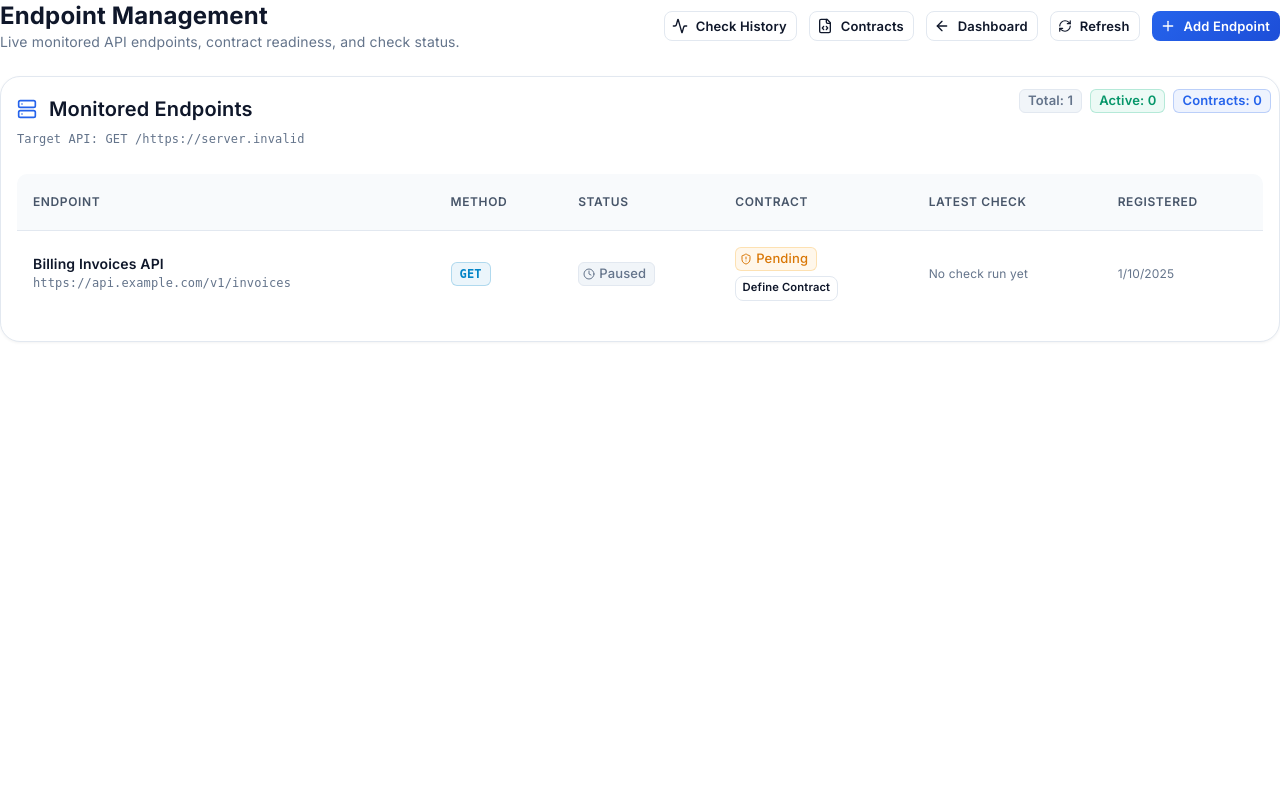
EndpointsPage › opens ManageContractDialog when Define Contract button on an endpoint row is clicked
Click the button with test id "define-contract-btn-ep-002": click(786, 288) [735,276,838,300]
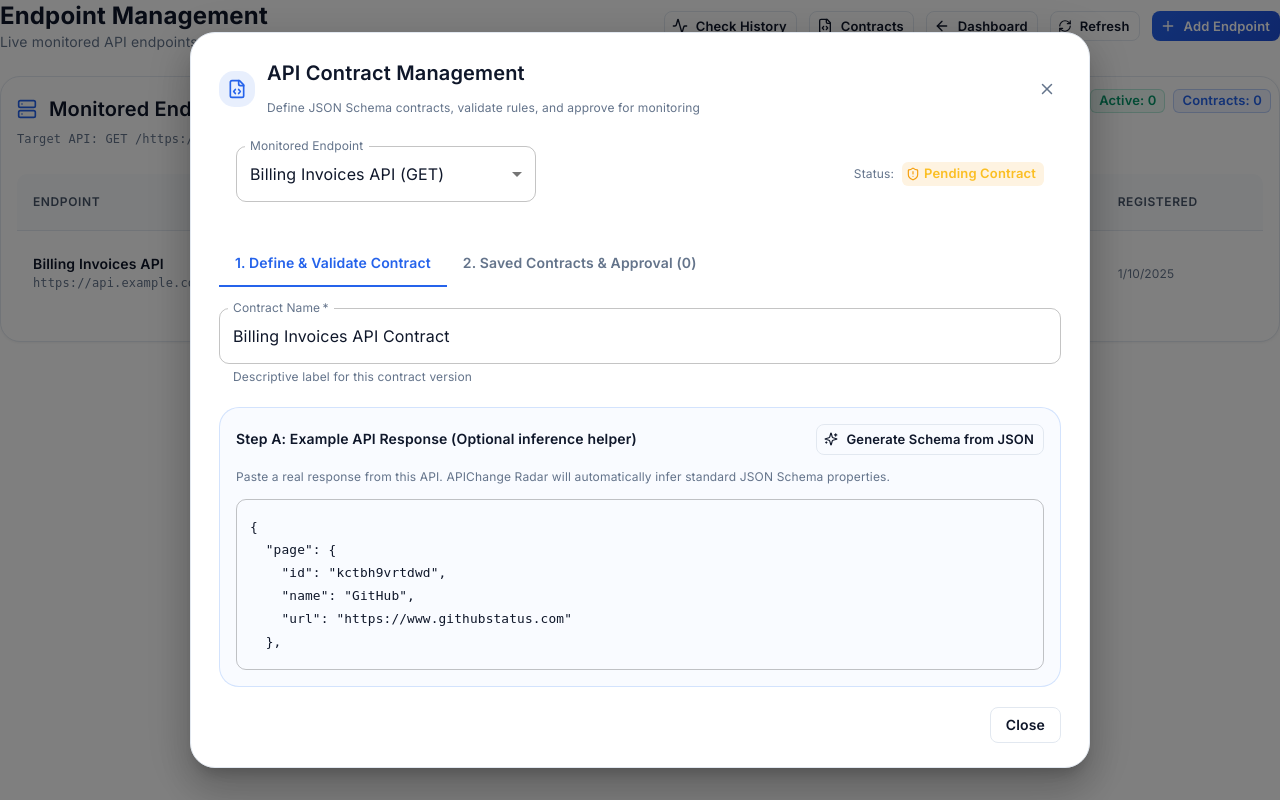
Expected: the element with test id "manage-contract-dialog" is shown
